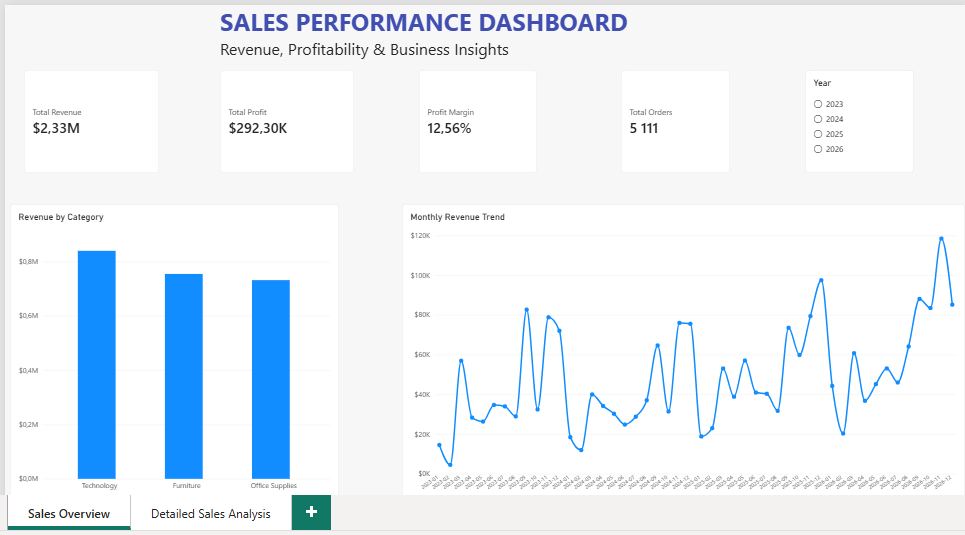

Layout of this report page (visuals, bound fields, positions):
{"tool":"powerbi","page":{"name":"Sales Overview","canvas":[1920,1080],"ordinal":0},"visuals":[{"type":"cardVisual","fields":{"Data":["sales_cleaned.Total Revenue"]},"box":[38,130,270,206],"z":0},{"type":"cardVisual","fields":{"Data":["sales_cleaned.Total Profit"]},"box":[430,130,268,206],"z":1000},{"type":"cardVisual","fields":{"Data":["sales_cleaned.Profit Margin"]},"box":[828,130,236,206],"z":2000},{"type":"cardVisual","fields":{"Data":["sales_cleaned.Total Orders"]},"box":[1232,130,218,206],"z":3000},{"type":"clusteredColumnChart","title":"Revenue by Category","fields":{"Category":["sales_cleaned.Category"],"Y":["sales_cleaned.Total Revenue"]},"box":[10.1,398.1,657.6,594.6],"z":4000},{"type":"lineChart","title":"Monthly Revenue Trend","fields":{"Category":["sales_cleaned.Year_Month"],"Y":["sales_cleaned.Total Revenue"]},"box":[793.7,398.1,1126.3,594.6],"z":5000},{"type":"listSlicer","fields":{"Values":["sales_cleaned.Year"]},"box":[1600,130,218,206],"z":6000},{"type":"textbox","box":[430,0,1310,178],"z":6001}]}

Visuals, with their boxes on the page's 1920x1080 design canvas (x1, y1, x2, y2). These are canvas units, not pixel positions in the 965x535 screenshot, which may show the page scaled, cropped or inside an application window:
cardVisual - sales_cleaned.Total Revenue: 38, 130, 308, 336
cardVisual - sales_cleaned.Total Profit: 430, 130, 698, 336
cardVisual - sales_cleaned.Profit Margin: 828, 130, 1064, 336
cardVisual - sales_cleaned.Total Orders: 1232, 130, 1450, 336
"Revenue by Category" clusteredColumnChart: 10, 398, 668, 993
"Monthly Revenue Trend" lineChart: 794, 398, 1920, 993
listSlicer - sales_cleaned.Year: 1600, 130, 1818, 336
textbox: 430, 0, 1740, 178
